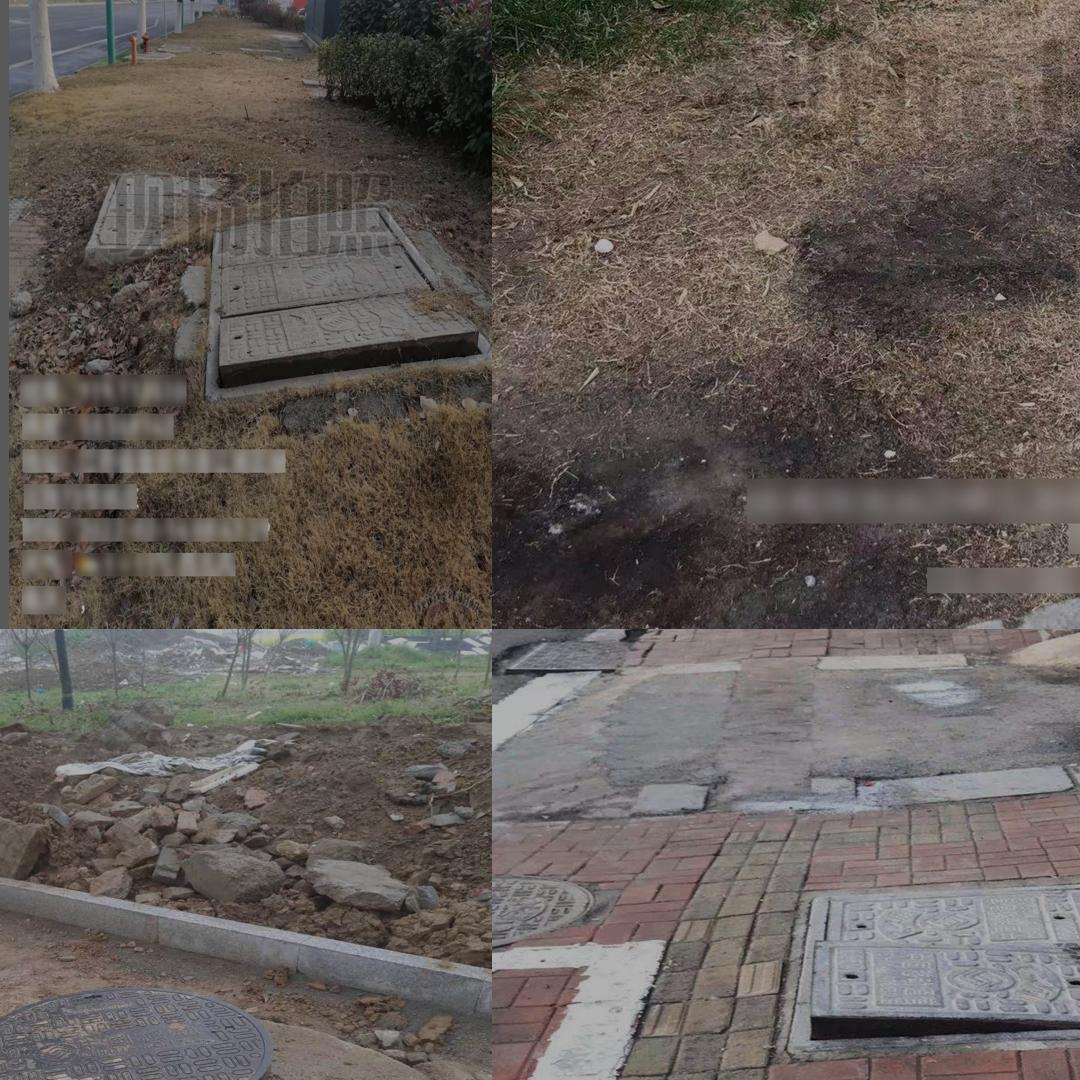good: (83, 170, 235, 268)
uncovered: (204, 207, 492, 403), (785, 882, 1080, 1057), (0, 987, 294, 1080)
